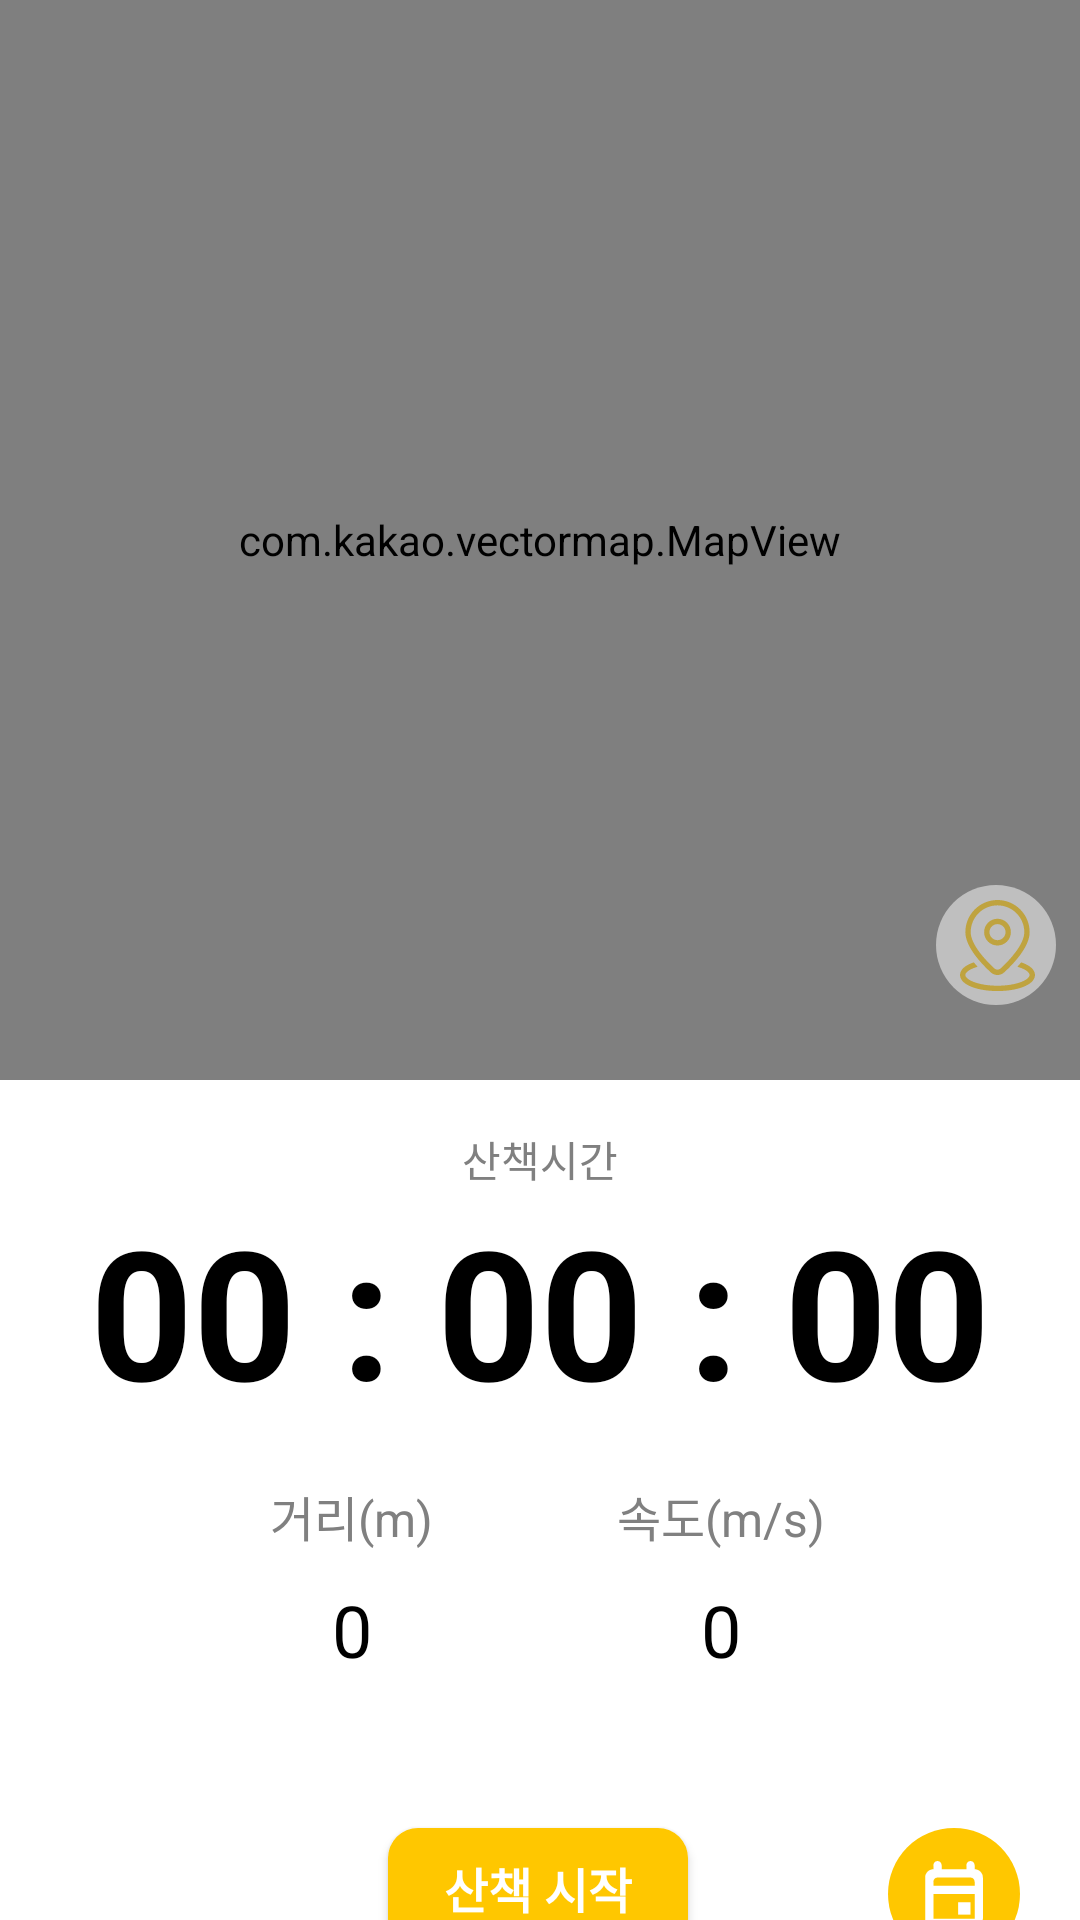

Screen size 1080 x 1920. Icon name, then its center in pixels as point (x, y):
location: point (996, 945)
